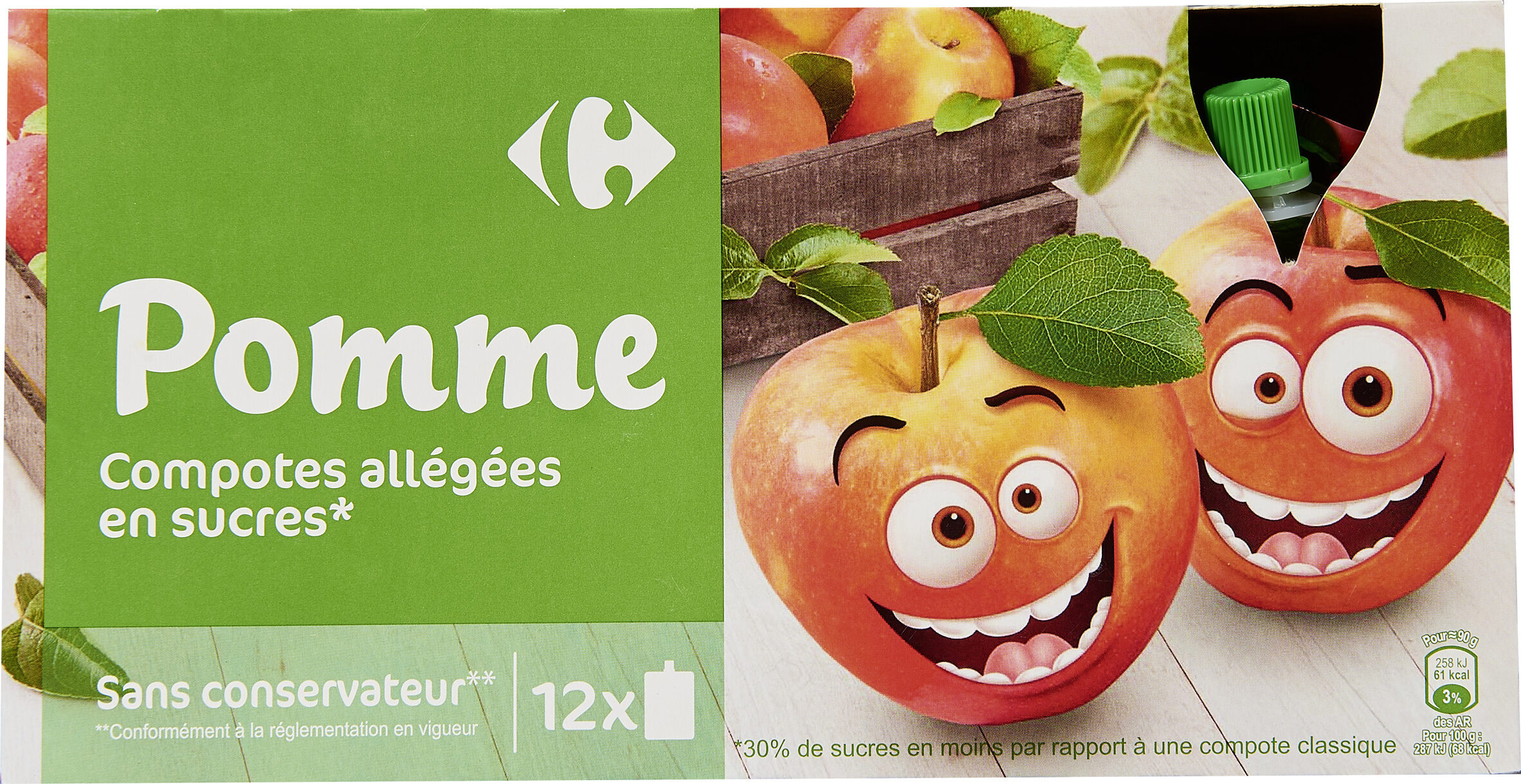FRUIT &Cie POMME: (76, 39, 1445, 745)
